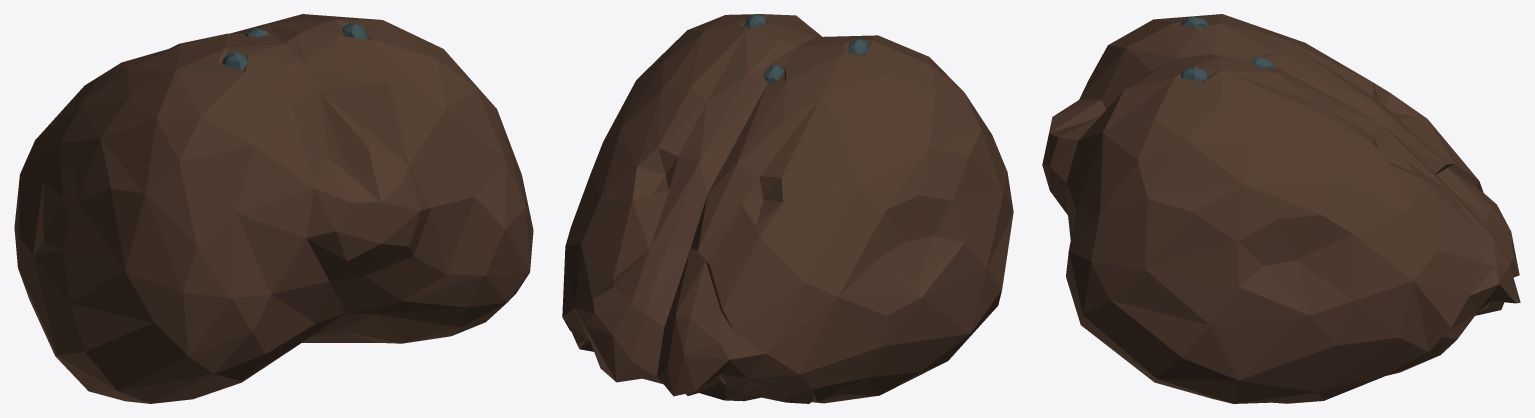
The model's file is head_and_dots.dae.
The picture shows the model from 3 angles, left to right: view 1: azimuth 30°, elevation 25°; view 2: azimuth 150°, elevation 25°; view 3: azimuth 270°, elevation 25°; orthographic projection. The views are drawn at different scales.
Parts seen in each view (by area): view 1: ant-head-dots; view 2: ant-head-dots; view 3: ant-head-dots.
Boxes of the visible parts, <box> form: ant-head-dots: <box>14,14,533,403</box>; ant-head-dots: <box>562,14,1013,403</box>; ant-head-dots: <box>1042,14,1520,403</box>.
Size of the model in its own units: 5.03 by 5.48 by 3.84.
